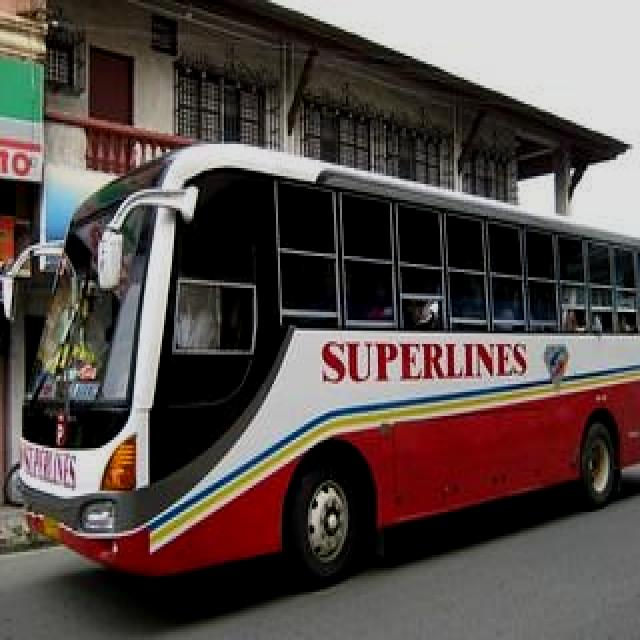Bus: (3, 123, 640, 628)
